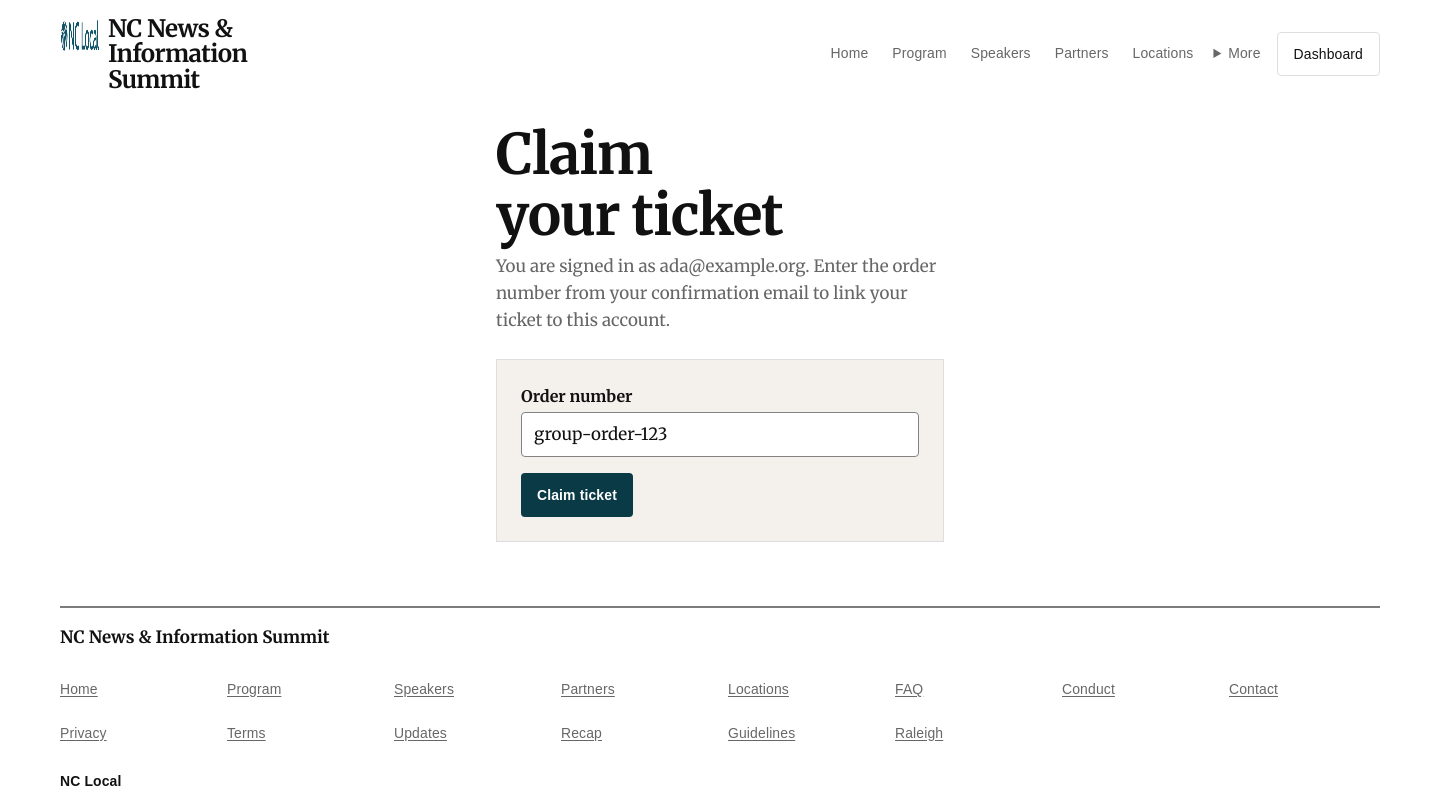
Scenario: signed in › does not start a claim after its account signs out while the ID token is being obtained
What coordinates should you click on to do the following:
click the button "Claim ticket"
I would click on:
 (577, 495)
Its box is [521,473,633,517].
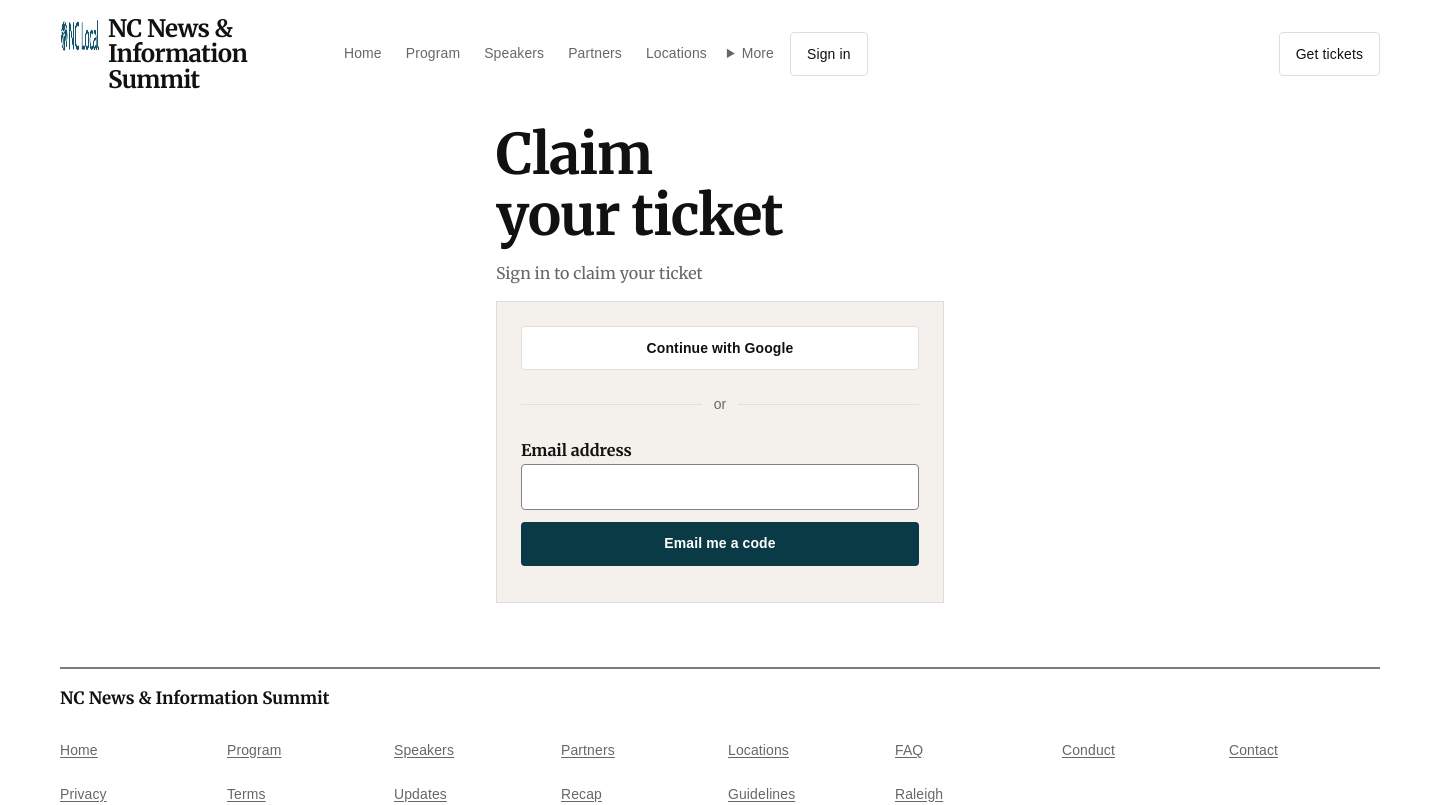
Now the text "Sign in to claim your ticket" is shown, box [496,263,703,283]
